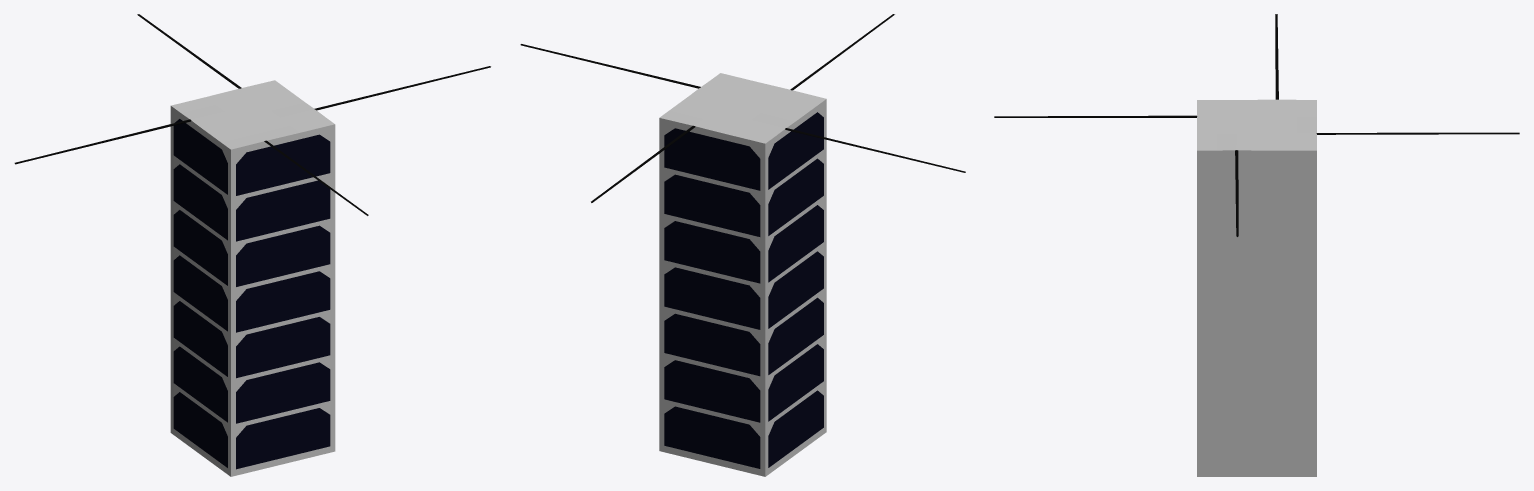
The model's file is cubesat_model.obj.
3 renders of one model, left to right at view 1: azimuth 30°, elevation 25°; view 2: azimuth 150°, elevation 25°; view 3: azimuth 270°, elevation 25°, orthographic. The views are drawn at different scales.
Visible parts, largest first — view 1: Cube.003; view 2: Cube.003; view 3: Cube.003.
Part boxes in pixels (x1,y1,x2,y2): Cube.003: (14, 14, 490, 476); Cube.003: (520, 14, 965, 476); Cube.003: (994, 14, 1519, 476).
Bounding box in the file's own units: 8.76 × 6 × 8.76.
